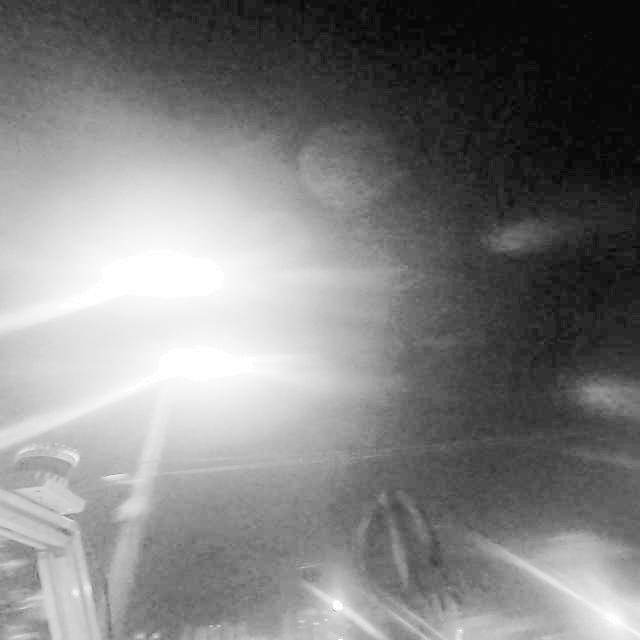Light: (78, 242, 232, 311), (153, 328, 256, 393)
